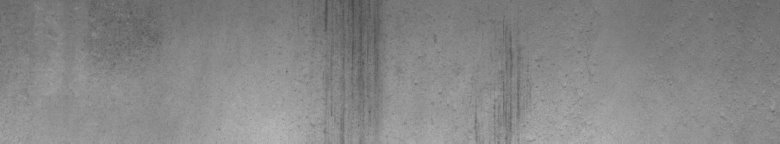ka: (472, 24, 521, 136)
